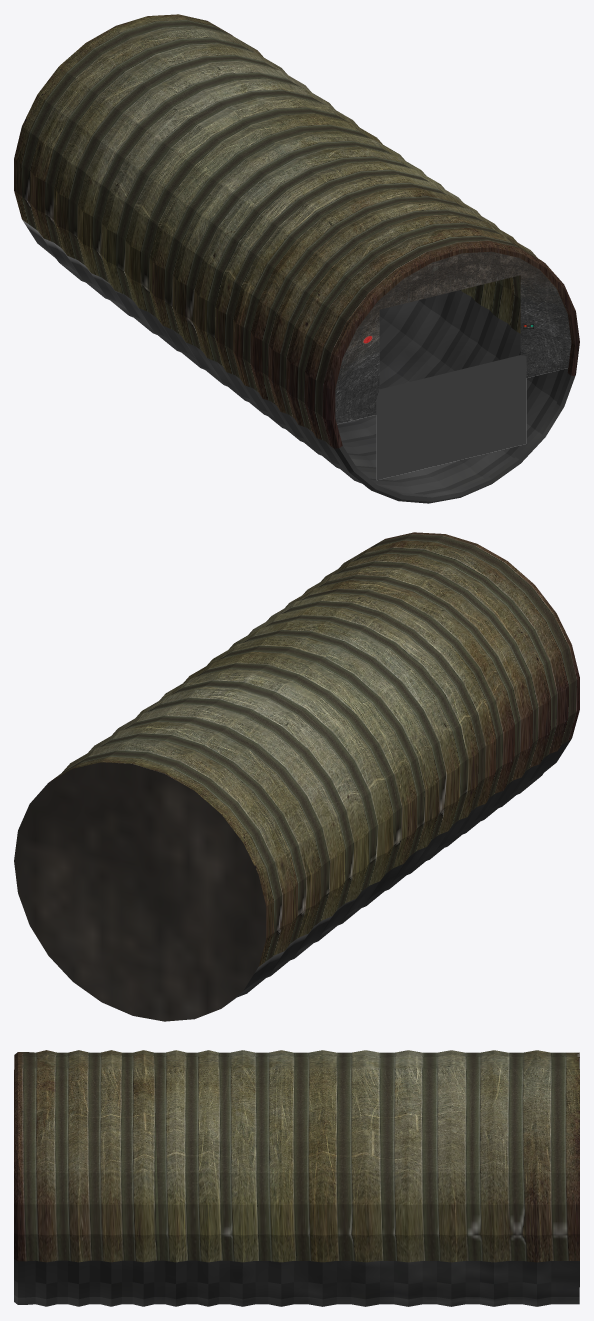
Rendered from Hangar Small New.dae.
3 views of the same model, one above another, from view 1: azimuth 30°, elevation 25°; view 2: azimuth 150°, elevation 25°; view 3: azimuth 270°, elevation 25° (orthographic). The views are drawn at different scales.
Visible parts, largest first — view 1: Cylinder3_copy19-0; view 2: Cylinder3_copy19-0; view 3: Cylinder3_copy19-0.
Part boxes in pixels (box(x1,y1,x2,y2)): Cylinder3_copy19-0: box(14, 14, 579, 503); Cylinder3_copy19-0: box(14, 532, 579, 1021); Cylinder3_copy19-0: box(14, 1050, 579, 1306).
Size of the model in its own units: 6.84 by 6.53 by 14.51.
